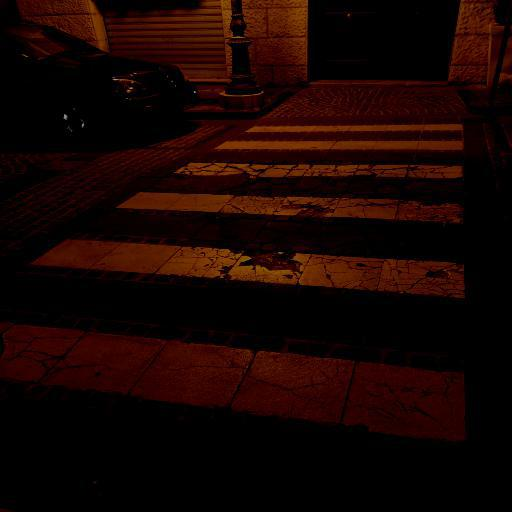crosswalk: (9, 187, 491, 301), (207, 119, 475, 155)
